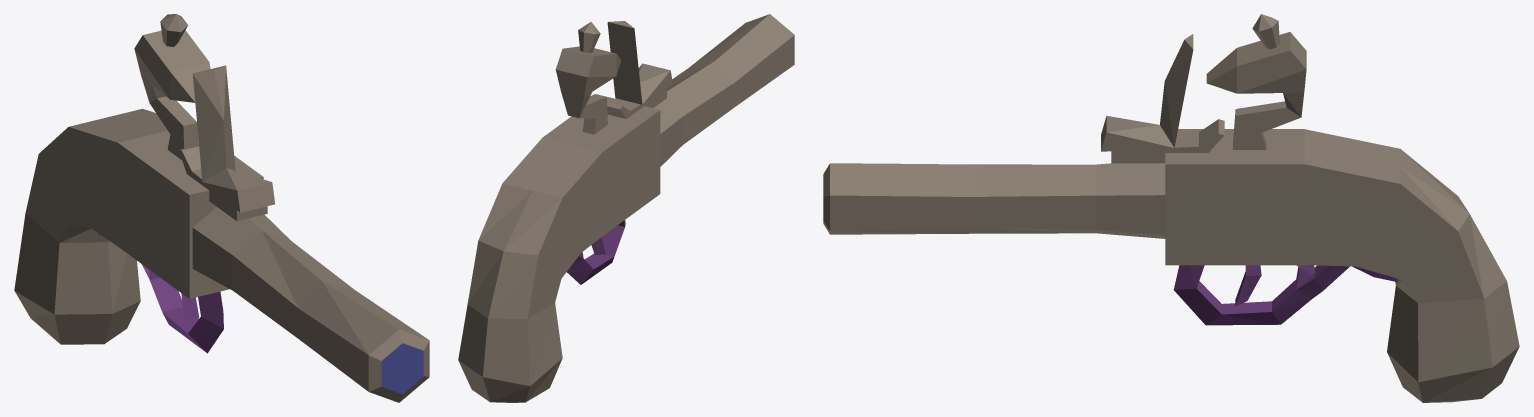
Rendered from SM_Wep_Pistol_02.glb.
3 views of the same model, side by side, from view 1: azimuth 30°, elevation 25°; view 2: azimuth 150°, elevation 25°; view 3: azimuth 270°, elevation 25° (orthographic). The views are drawn at different scales.
Visible parts, largest first — view 1: SM_Wep_Pistol_02_00; view 2: SM_Wep_Pistol_02_00; view 3: SM_Wep_Pistol_02_00.
Part boxes in pixels (x1,y1,x2,y2): SM_Wep_Pistol_02_00: (14,14,429,402); SM_Wep_Pistol_02_00: (458,14,794,402); SM_Wep_Pistol_02_00: (823,14,1519,402).
Size of the model in its own units: 0.0499 by 0.2149 by 0.3497.
Materials: 1 (1 with a texture image).
